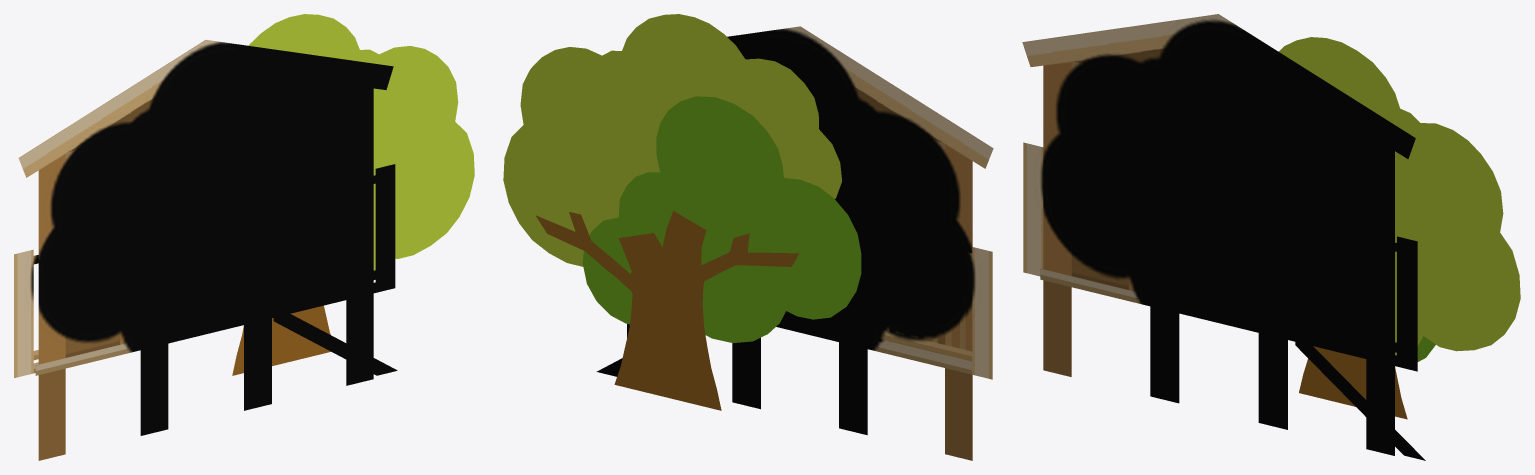
Rendered from house_woods_light.fbx.
The picture shows the model from 3 angles, left to right: view 1: azimuth 30°, elevation 25°; view 2: azimuth 150°, elevation 25°; view 3: azimuth 330°, elevation 25°; orthographic projection. The views are drawn at different scales.
Visible parts, largest first — view 1: s_house_log02, woods2C2, s_house_log_t02, woods2A2; view 2: woods2C2, s_house_log02, woods2B2, woods2A2, s_house_log_t02; view 3: s_house_log02, woods2C2, s_house_log_t02, woods2A2.
Part boxes in pixels (x1,y1,x2,y2): s_house_log02: [18, 40, 395, 460]; woods2C2: [248, 14, 474, 270]; s_house_log_t02: [14, 249, 397, 378]; woods2A2: [232, 305, 330, 375]; woods2C2: [503, 14, 841, 266]; s_house_log02: [627, 26, 993, 460]; woods2B2: [582, 96, 861, 342]; woods2A2: [535, 211, 799, 410]; s_house_log_t02: [596, 217, 992, 379]; s_house_log02: [1022, 14, 1417, 455]; woods2C2: [1278, 37, 1520, 355]; s_house_log_t02: [1023, 142, 1425, 460]; woods2A2: [1299, 346, 1407, 419].
Bounding box in the file's own units: 502 × 391 × 46.41.
